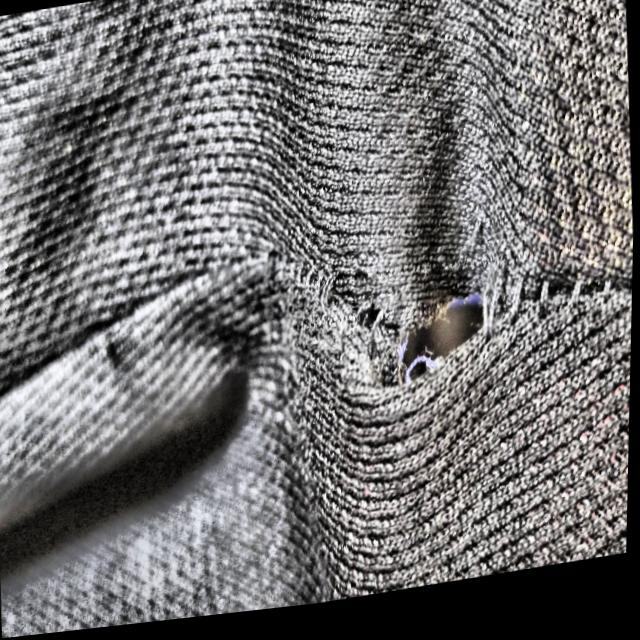seam: (224, 220, 574, 498)
